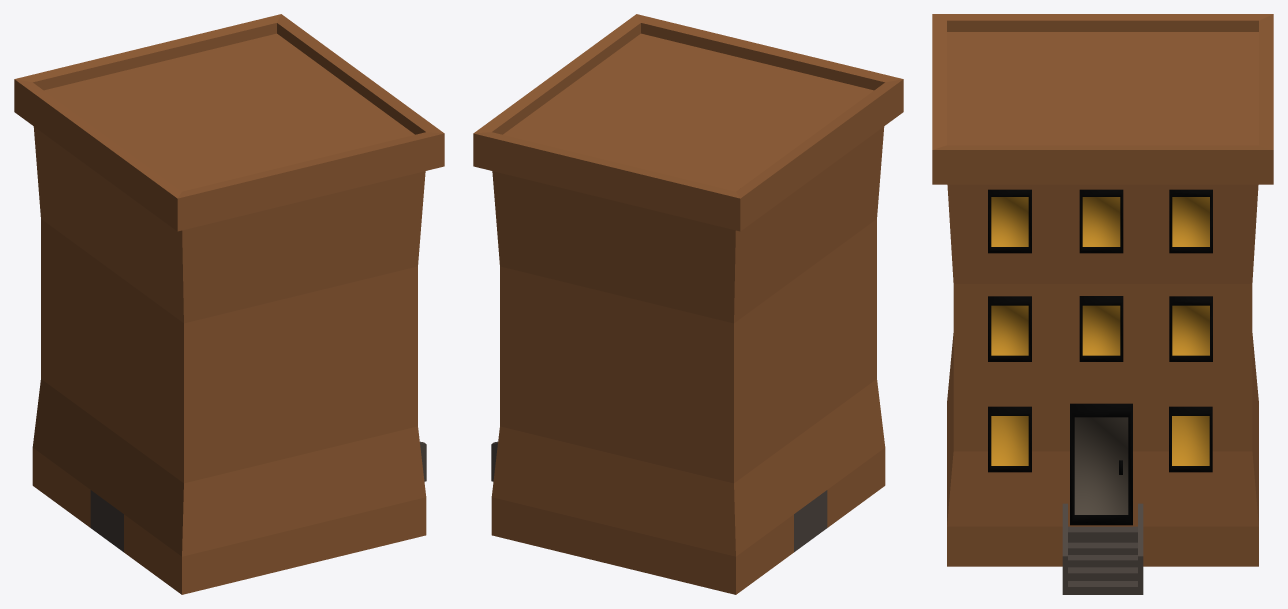
Rendered from stairBuilding.fbx.
3 renders of one model, left to right at view 1: azimuth 30°, elevation 25°; view 2: azimuth 150°, elevation 25°; view 3: azimuth 270°, elevation 25°, orthographic. The views are drawn at different scales.
Visible parts, largest first — view 1: Cube; view 2: Cube; view 3: Cube.
Part boxes in pixels (box(x1,y1,x2,y2)): Cube: box(14, 14, 444, 594); Cube: box(473, 14, 903, 594); Cube: box(932, 14, 1273, 594).
Bounding box in the file's own units: 2434 × 3019 × 2210.
